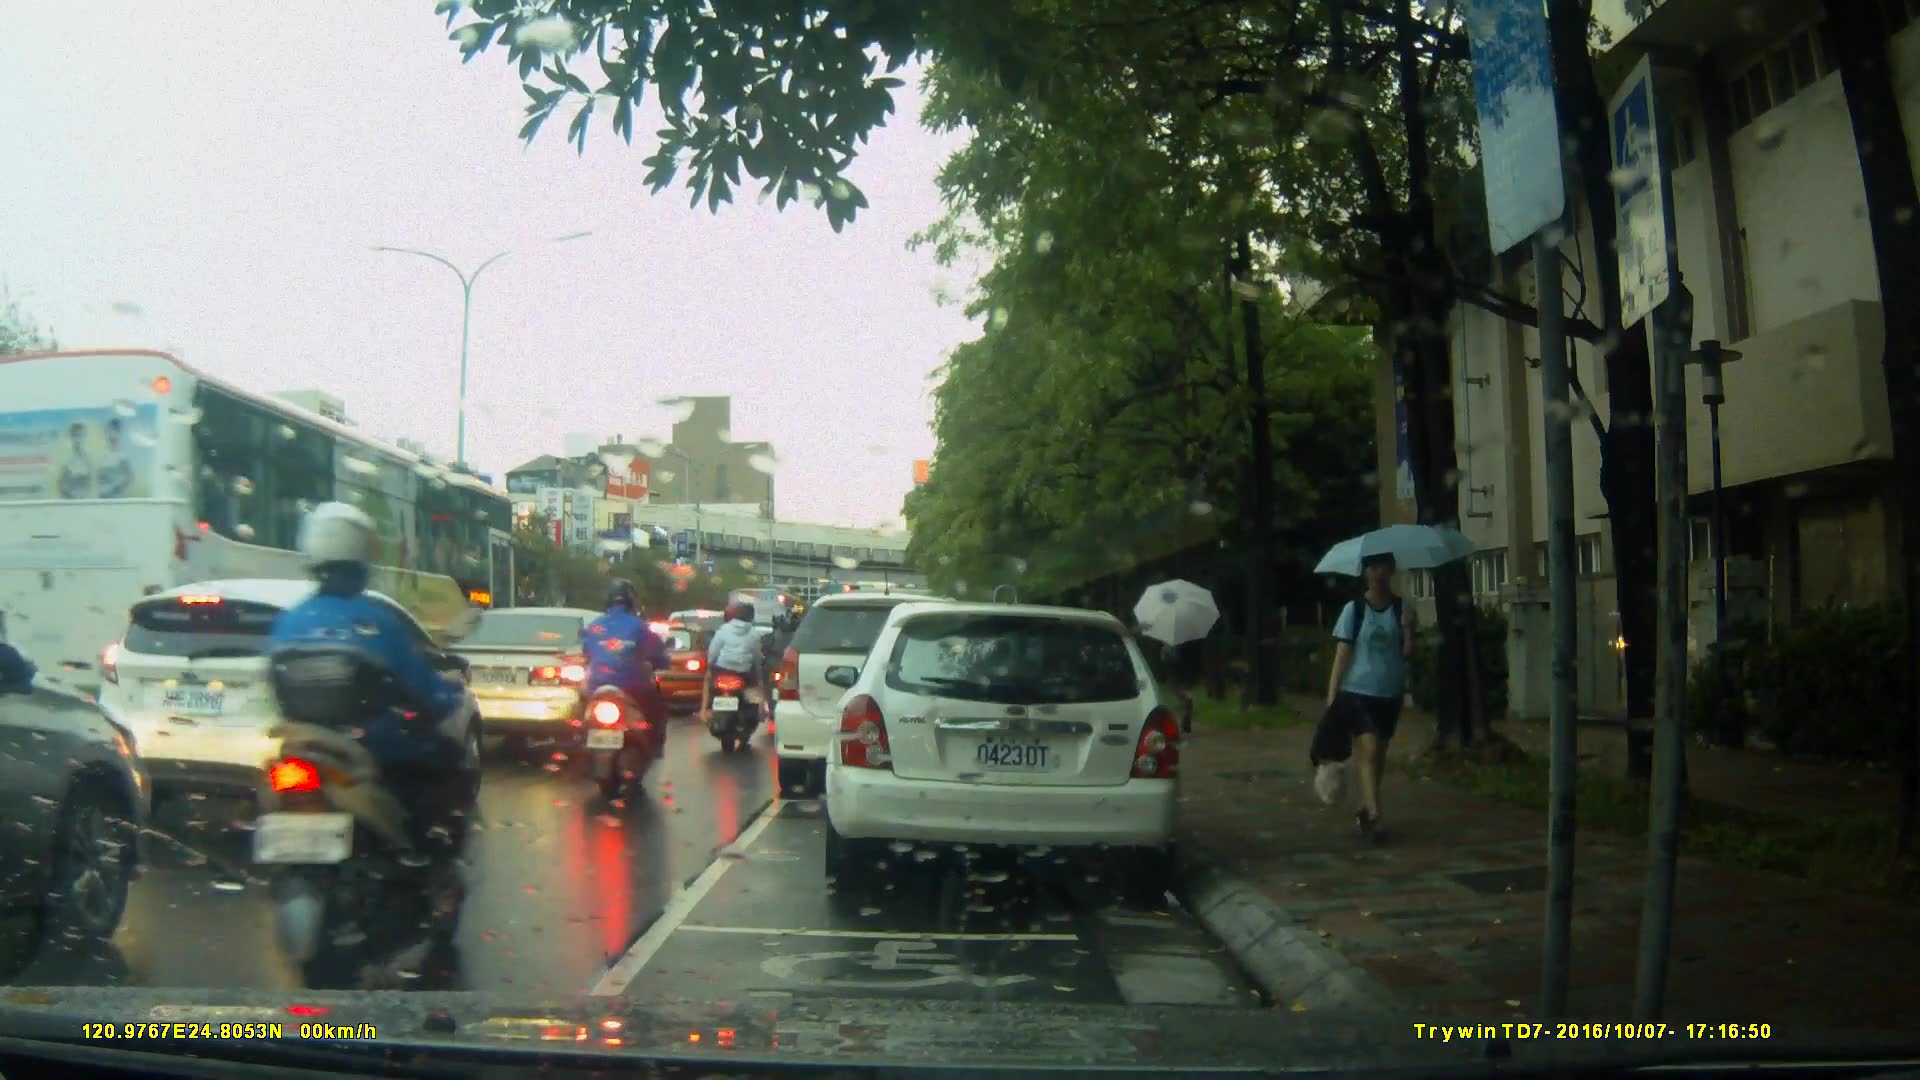pedestrian: (1315, 544, 1453, 838), (1157, 611, 1209, 737)
rider: (237, 476, 472, 1005), (583, 580, 669, 794), (712, 595, 779, 763), (769, 609, 806, 726)
vehicle: (2, 344, 528, 775), (835, 594, 1194, 898), (90, 576, 485, 846), (776, 590, 1026, 784), (411, 604, 658, 755), (610, 619, 728, 719)
